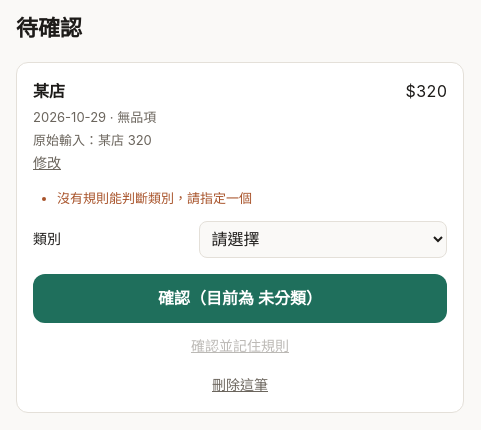
Test: 確認與確認並記住規則（B4.2a） › 「確認並記住規則」提示學到的規則
The image size is (481, 430).
Select "🎬 娛樂" in the dropdown labelled "類別": (323, 239) [199, 221, 447, 258]
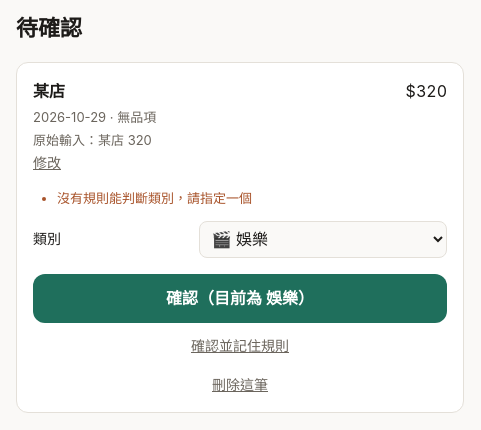
Click the button "確認並記住規則": (240, 347) [191, 335, 289, 358]
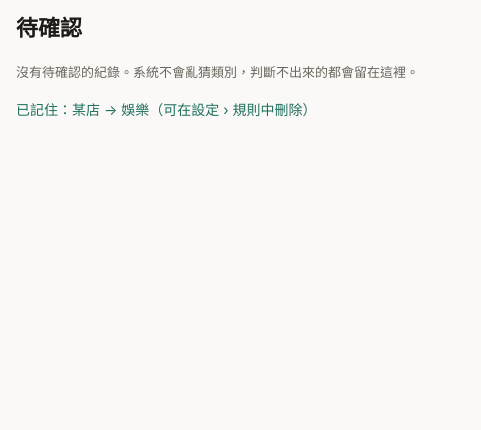
Result: the text "已記住：某店 → 娛樂（可在設定 › 規則中刪除）" is shown at [16, 101, 316, 118]
